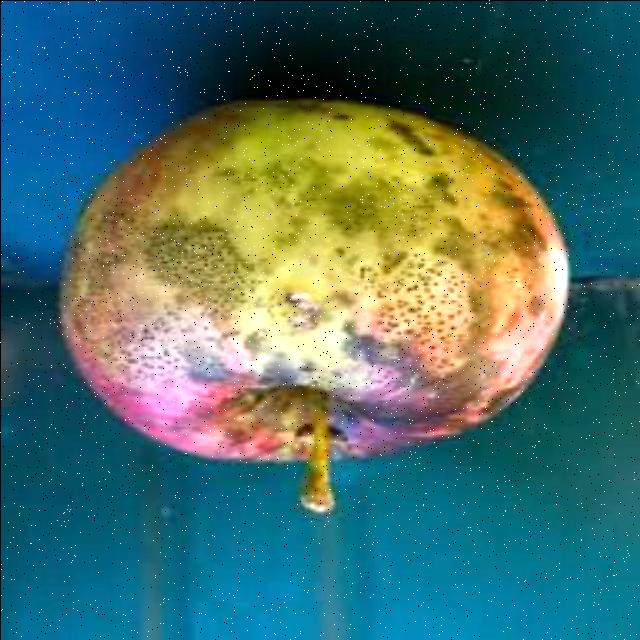BLOTCH: (28, 62, 574, 484)
